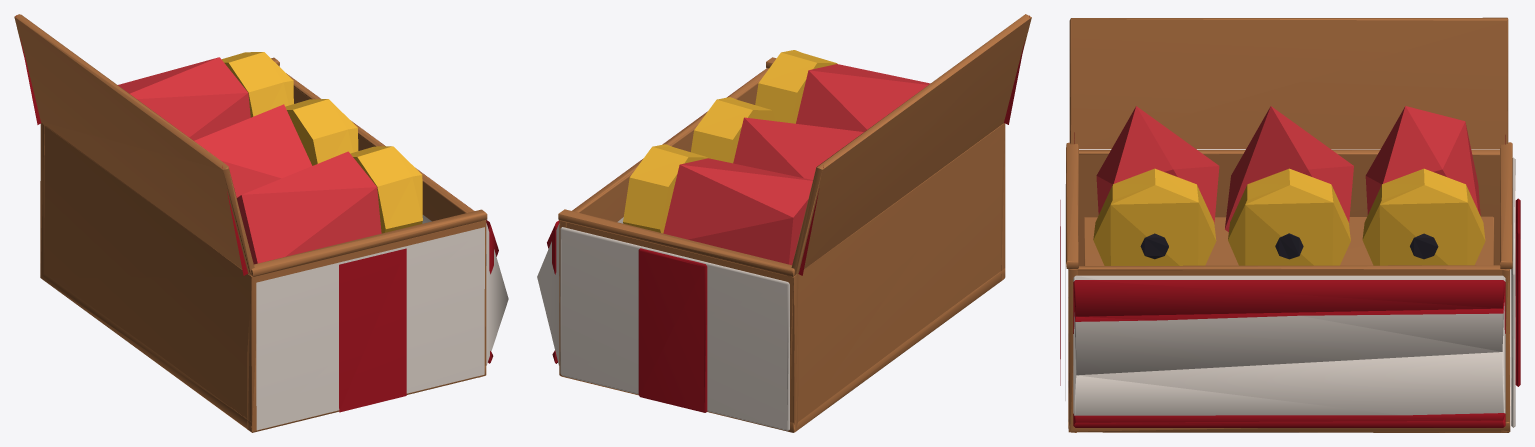
3 renders of one model, left to right at view 1: azimuth 30°, elevation 25°; view 2: azimuth 150°, elevation 25°; view 3: azimuth 270°, elevation 25°, orthographic. The views are drawn at different scales.
Visible parts, largest first — view 1: body, static_picketWhite, static_survivorRed, static_blood, static_schoolBusYellow; view 2: body, static_picketWhite, static_survivorRed, static_blood, static_schoolBusYellow; view 3: body, static_picketWhite, static_schoolBusYellow, static_blood, static_survivorRed, static_uiDark.
Part boxes in pixels (box(x1,y1,x2,y2)): body: box(14, 14, 487, 432); static_picketWhite: box(256, 215, 508, 430); static_survivorRed: box(118, 57, 381, 264); static_blood: box(16, 15, 498, 412); static_schoolBusYellow: box(222, 52, 422, 233); body: box(558, 14, 1031, 432); static_picketWhite: box(537, 217, 789, 430); static_survivorRed: box(663, 64, 930, 265); static_blood: box(547, 15, 1029, 412); static_schoolBusYellow: box(623, 50, 837, 233); body: box(1066, 17, 1512, 432); static_picketWhite: box(1065, 157, 1515, 427); static_schoolBusYellow: box(1093, 168, 1485, 265); static_blood: box(1060, 132, 1520, 427); static_survivorRed: box(1096, 106, 1480, 232); static_uiDark: box(1140, 233, 1438, 259).
Size of the model in its own units: 0.4394 by 0.3987 by 0.5813.
